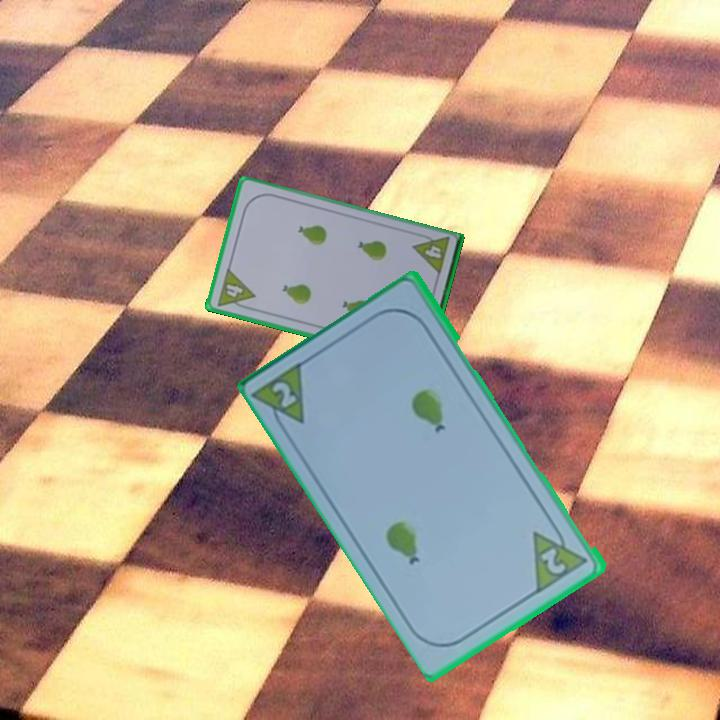2p: (537, 544, 570, 578), (269, 378, 301, 411)
4p: (214, 265, 258, 314), (410, 229, 452, 278)
